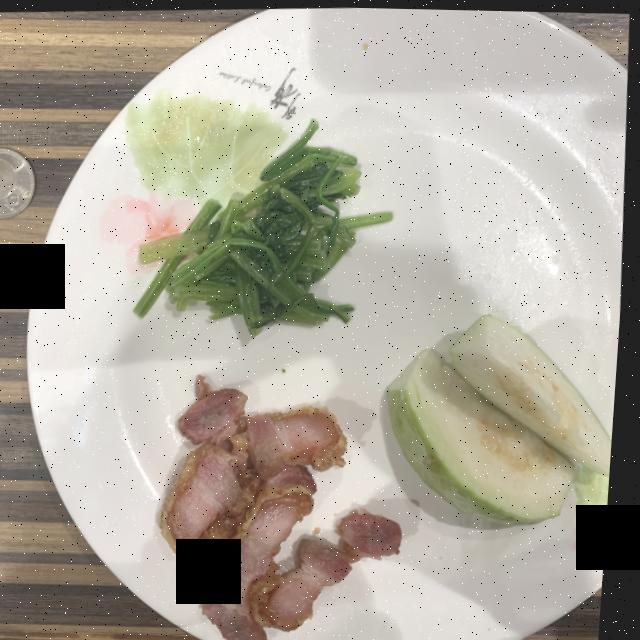coin: (0, 147, 37, 216)
guava -sliced-: (392, 311, 618, 521)
mustard greens: (137, 117, 395, 334)
red grilled pork: (166, 375, 409, 640)
